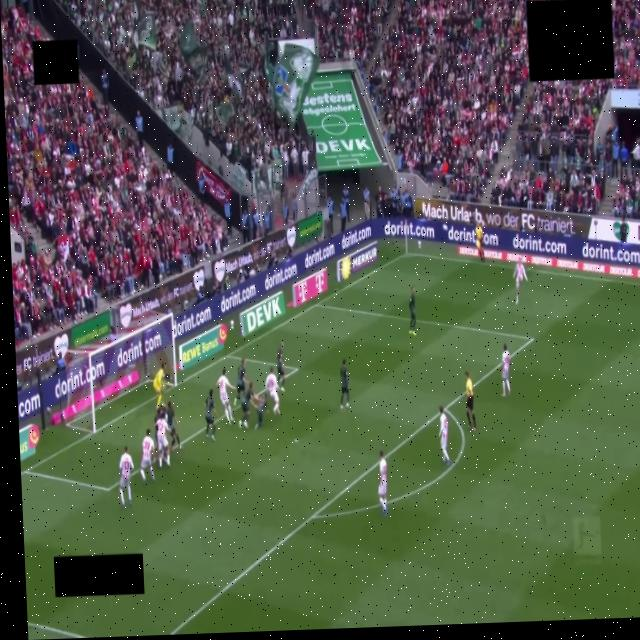player: (217, 368, 234, 424), (156, 407, 170, 467), (140, 429, 155, 482), (120, 446, 133, 507), (166, 401, 181, 449), (153, 363, 169, 408), (265, 367, 279, 414), (439, 406, 450, 465), (239, 382, 253, 428), (252, 393, 268, 430), (378, 451, 387, 515), (234, 359, 246, 406), (514, 262, 527, 304), (205, 390, 215, 441), (340, 359, 349, 409), (276, 342, 285, 391), (502, 344, 510, 397), (409, 287, 416, 335), (154, 405, 164, 437)
referee: (465, 371, 476, 430)
